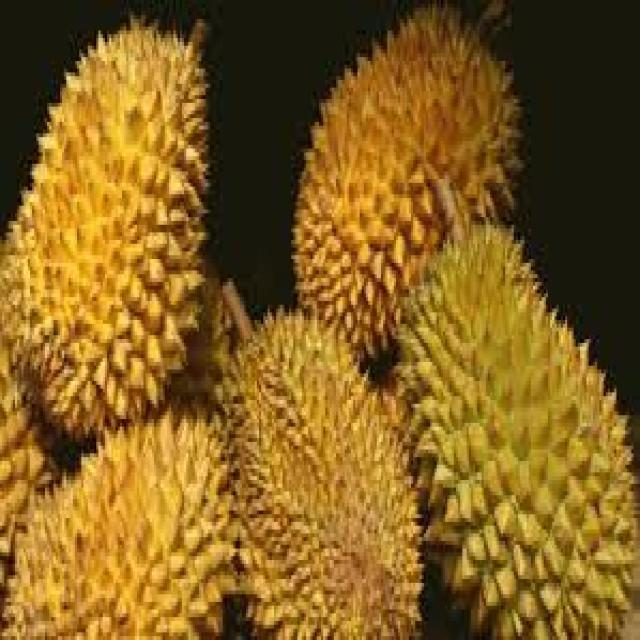mature: (0, 24, 206, 439), (296, 9, 521, 362), (230, 314, 419, 637)
